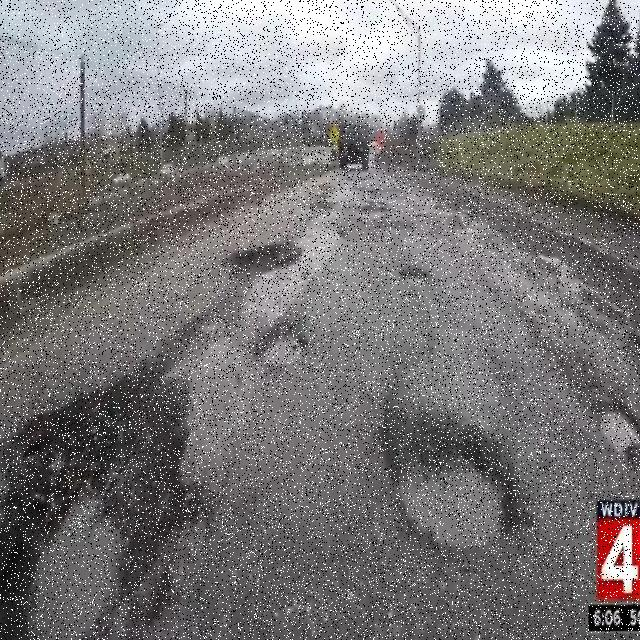pothole: (4, 386, 163, 640), (397, 433, 513, 554), (235, 247, 301, 289), (598, 403, 640, 461), (260, 327, 303, 368)
